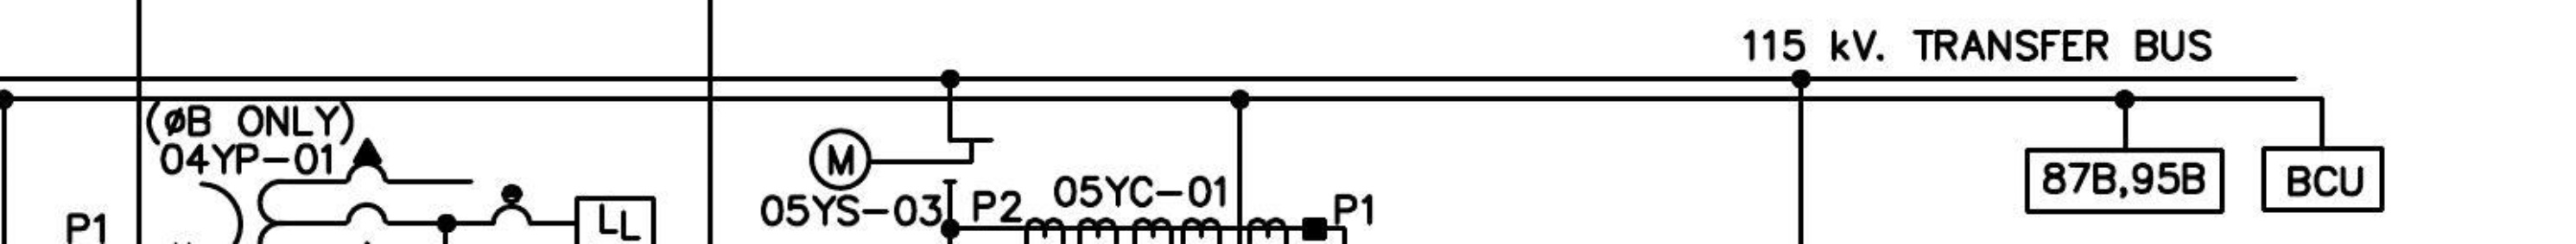115_1way_ds_w_motor: (807, 126, 996, 192)
BCU: (2261, 144, 2387, 213)
